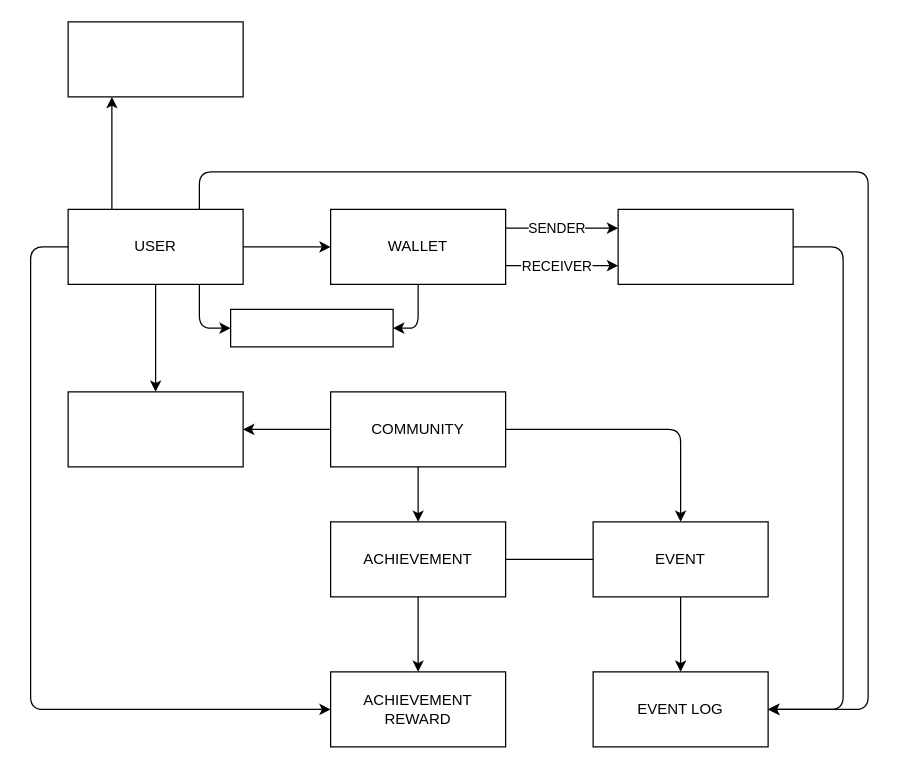
Image size: 900x769. Some labels were removed from this diagram. The shapes that lost their labels are listed below. From the top down, each one's box as (x1, y1, x2, y2) in pixels, then its label:
(67, 21, 243, 97): API KEY
(617, 208, 793, 284): TRANSACTION
(229, 308, 393, 347): WALLET_ON_USER
(67, 391, 243, 467): MEMBERSHIP
